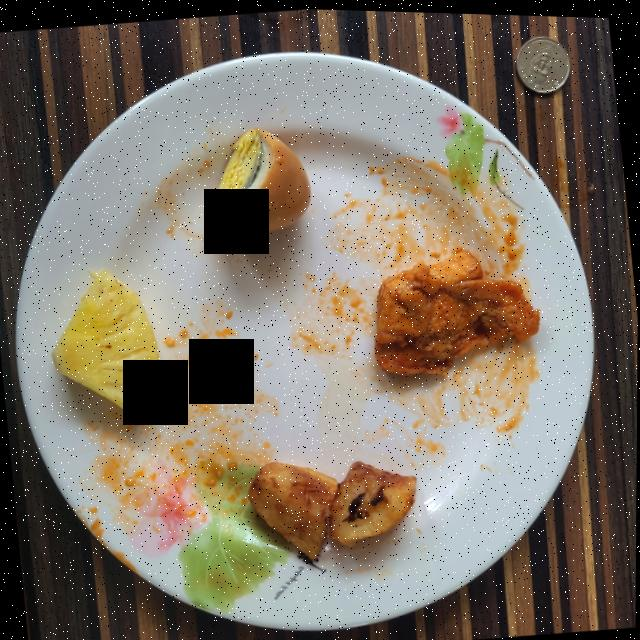coin: (514, 33, 569, 90)
creamy tofu: (374, 245, 539, 373)
fried potato: (248, 458, 416, 557)
pineapple: (51, 269, 158, 417)
soy egg: (213, 126, 310, 231)
